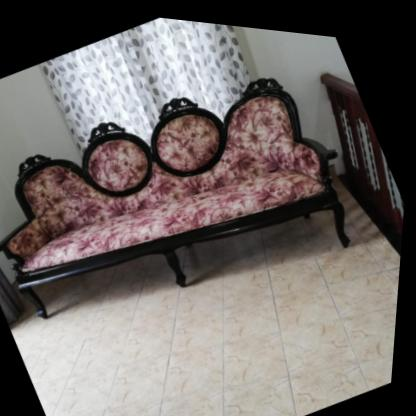Ceramic floor: (16, 229, 404, 416)
Curtains: (38, 14, 255, 151)
Sofa: (0, 14, 387, 395)
